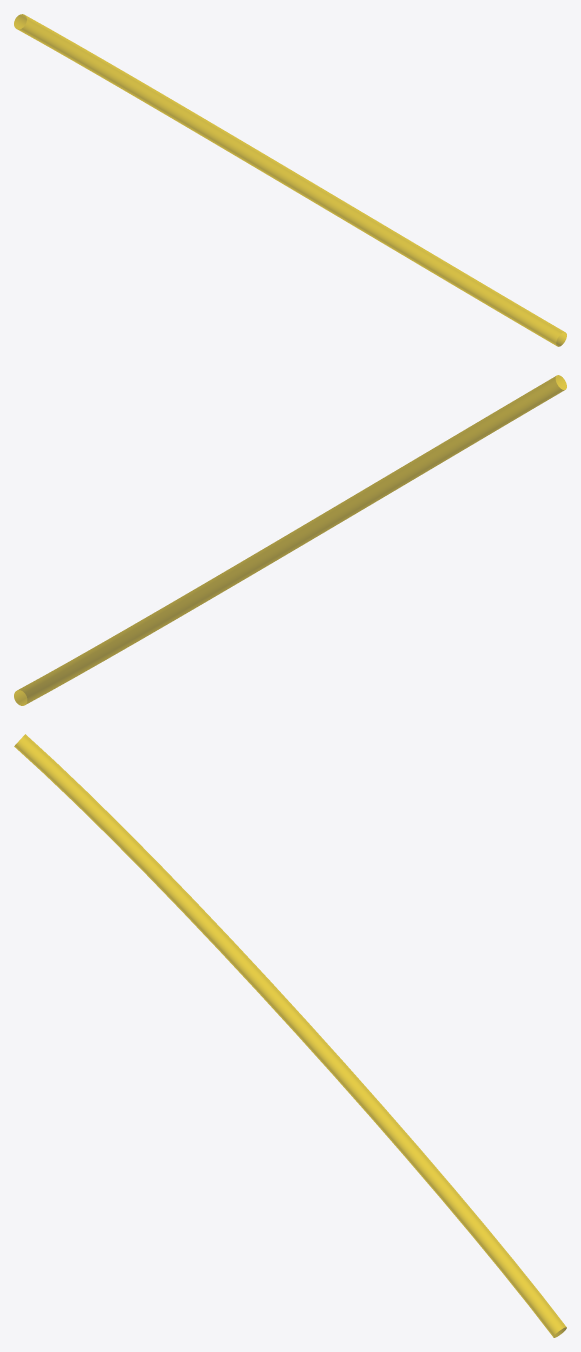
Rendered from Event_17758602_track_153.fbx.
3 renders of one model, top to bottom at view 1: azimuth 30°, elevation 25°; view 2: azimuth 150°, elevation 25°; view 3: azimuth 330°, elevation 25°, orthographic. The views are drawn at different scales.
Parts seen in each view (by area): view 1: Model; view 2: Model; view 3: Model.
Boxes of the visible parts, x1,y1,x2,y2 form: Model: [14, 14, 566, 346]; Model: [14, 375, 566, 705]; Model: [14, 734, 566, 1337].
Size of the model in its own units: 1.53 by 1.22 by 0.1137.
